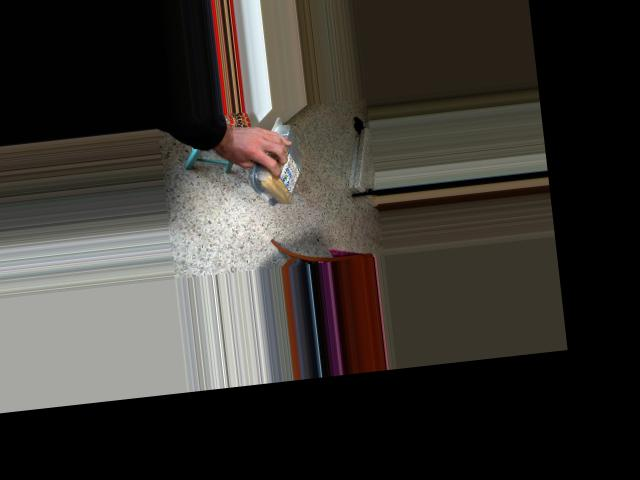cheese: (252, 115, 305, 206)
